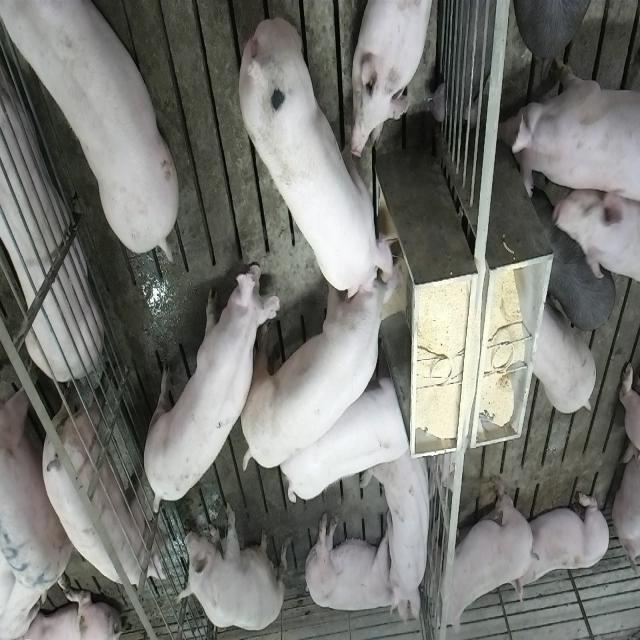Feeding: (236, 15, 400, 302), (238, 255, 404, 473)
Lateral_lying: (302, 511, 412, 623)
Sitting: (176, 501, 286, 633)
Standing: (0, 0, 176, 258), (140, 261, 274, 520), (42, 372, 172, 586), (503, 47, 639, 203), (278, 362, 412, 508), (436, 472, 538, 636), (1, 362, 68, 590), (540, 214, 614, 332), (555, 186, 640, 286), (530, 296, 596, 414), (516, 2, 600, 72)
Sternal_lying: (0, 28, 101, 378), (350, 0, 436, 156), (517, 486, 612, 604)
